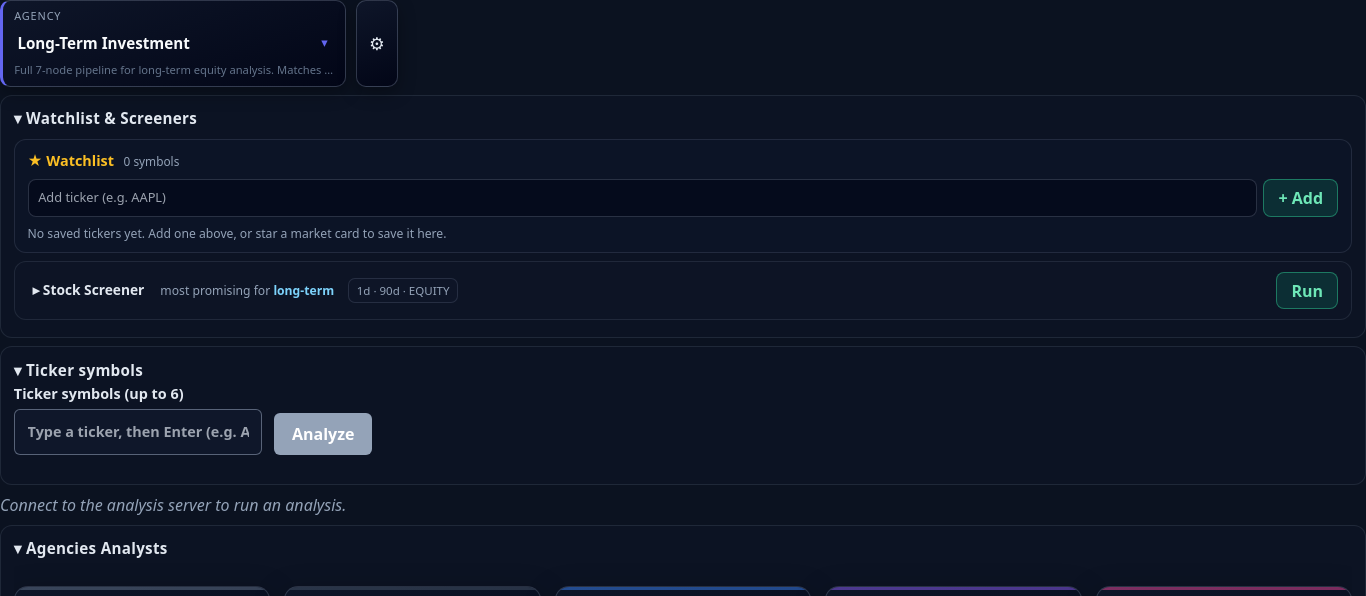
Test: AnalysisView per-card configure gear (Phase H single-gear model) › shows ONE gear for an analyst with BOTH a source AND flavors
This screenshot has width=1366, height=596.
Select "Options Swing (days–weeks)" in the dropdown named "Select analysis agency". click: (158, 43)
box: [14, 28, 301, 58]
(page scrolled)
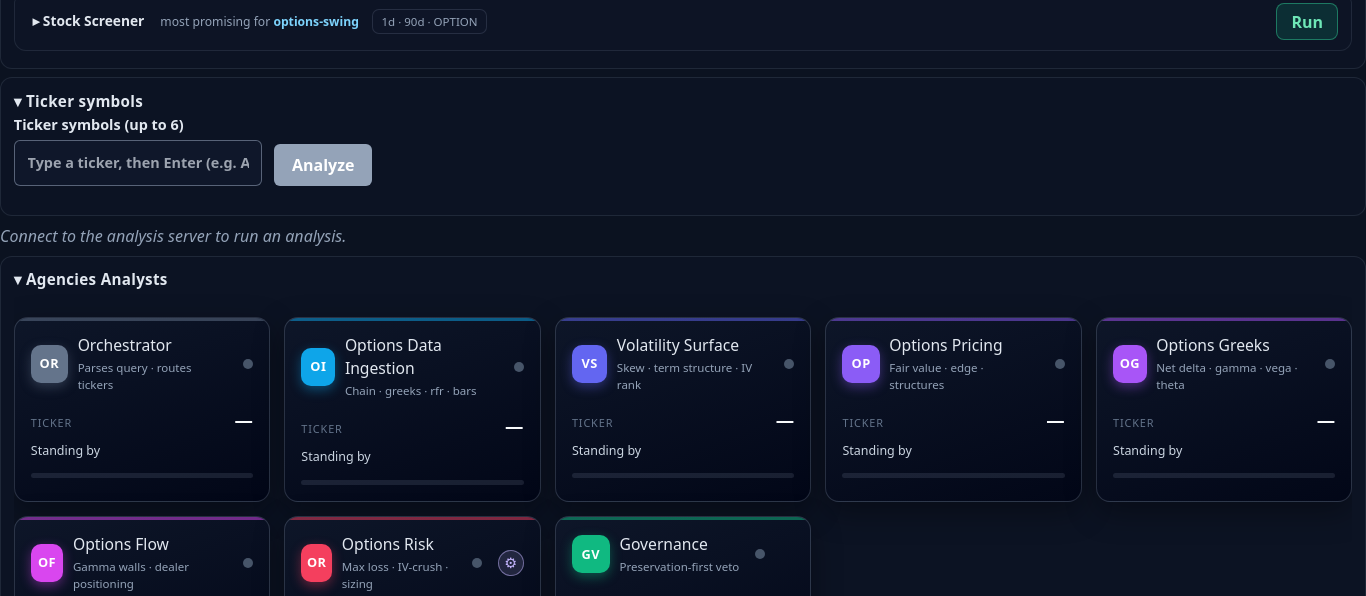
Click the button with test id "panel-gear-options_risk". click: (511, 563)
box: [498, 550, 524, 576]
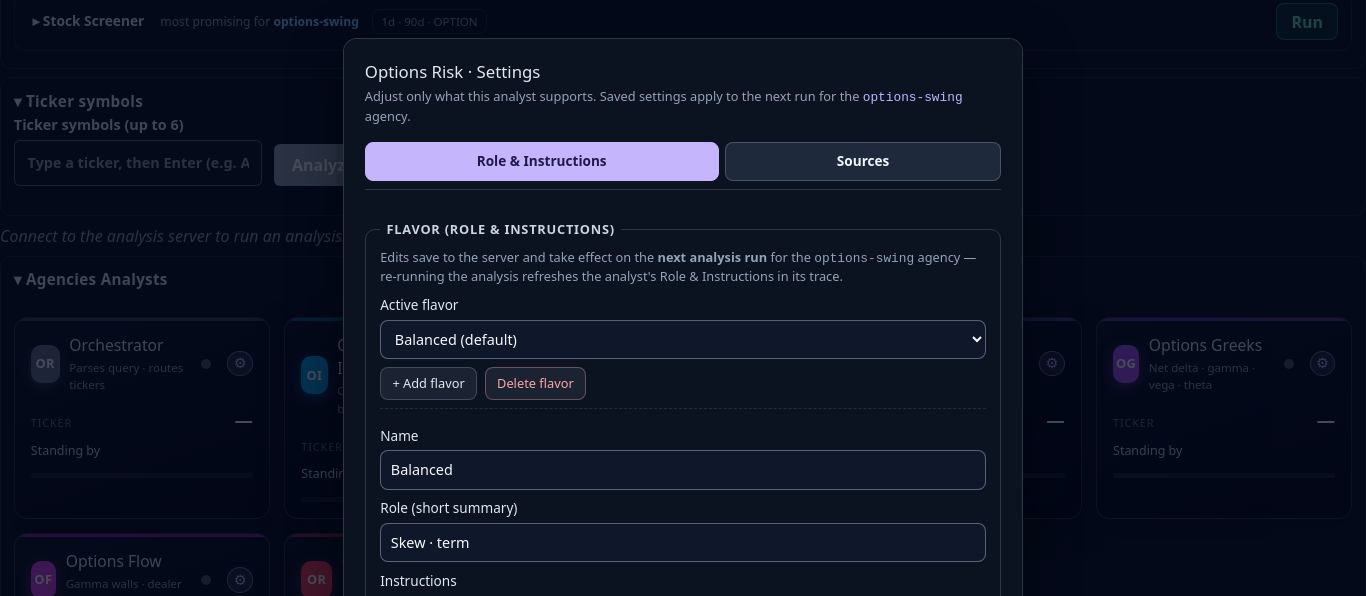
expect the heading "Options Risk · Settings" is shown: met, box [365, 60, 540, 83]
expect the tab with test id "tab-sources" is shown: met, box [725, 142, 1001, 181]
expect the tab with test id "tab-flavor" is shown: met, box [365, 142, 718, 181]
